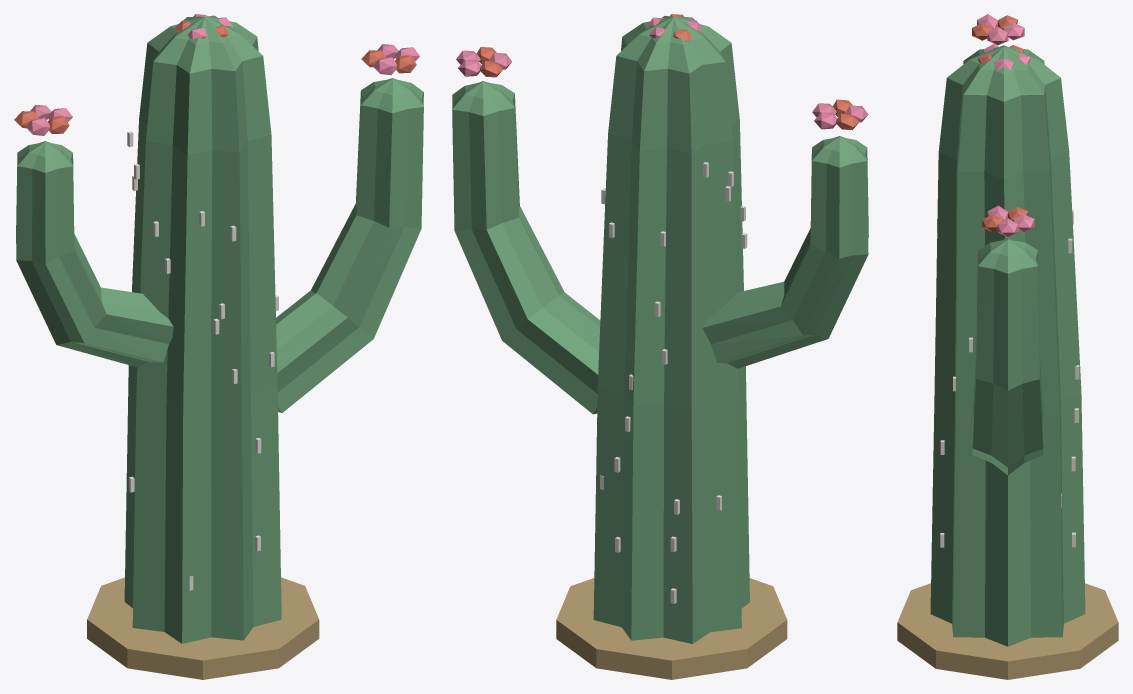
The model's file is PLANT_06.obj.
3 renders of one model, left to right at view 1: azimuth 30°, elevation 25°; view 2: azimuth 150°, elevation 25°; view 3: azimuth 270°, elevation 25°, orthographic. The views are drawn at different scales.
Visible parts, largest first — view 1: trunk, arm_L, arm_R, base_soil, flowers, spines; view 2: trunk, arm_L, arm_R, base_soil, flowers, spines; view 3: trunk, arm_L, base_soil, flowers, spines.
Boxes of the visible parts, x1,y1,x2,y2 form: trunk: (124, 15, 281, 643); arm_L: (276, 78, 423, 412); arm_R: (16, 141, 173, 366); base_soil: (87, 577, 319, 679); flowers: (14, 14, 419, 135); spines: (127, 131, 278, 590); trunk: (593, 15, 749, 643); arm_L: (452, 81, 600, 414); arm_R: (702, 136, 868, 368); base_soil: (556, 578, 787, 679); flowers: (456, 14, 868, 130); spines: (600, 162, 747, 603); trunk: (930, 45, 1085, 646); arm_L: (972, 238, 1043, 475); base_soil: (897, 583, 1118, 679); flowers: (972, 14, 1034, 236); spines: (937, 210, 1079, 547).
Bounding box in the file's own units: 2.23 × 3.17 × 1.08.
